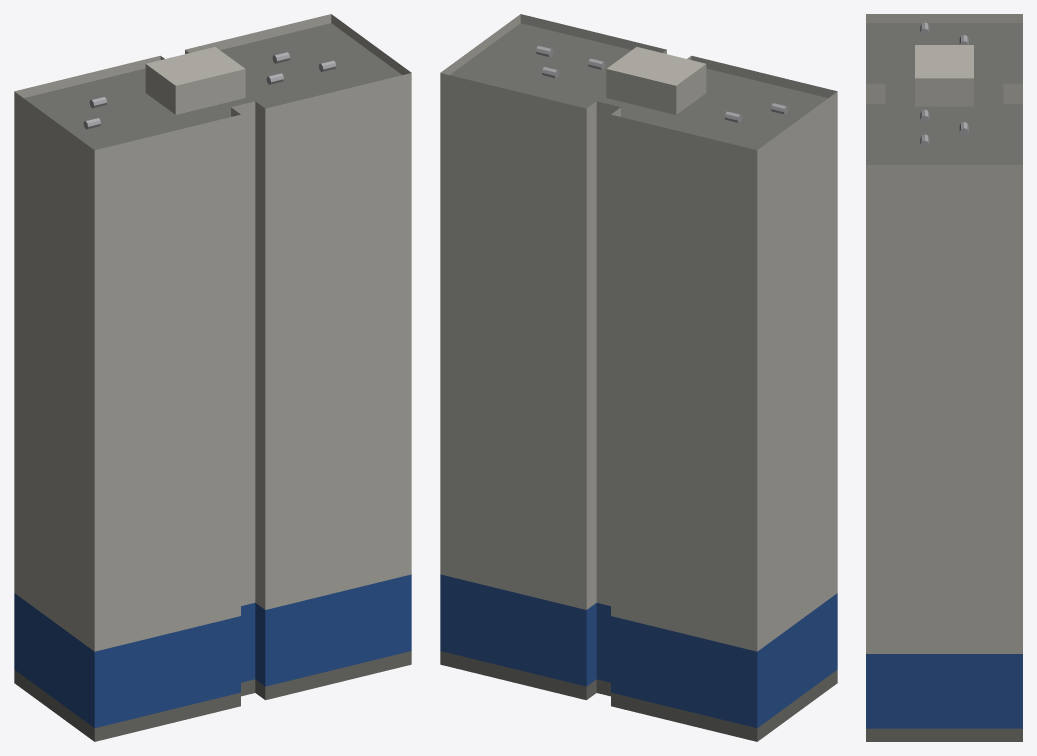
The picture shows the model from 3 angles, left to right: view 1: azimuth 30°, elevation 25°; view 2: azimuth 150°, elevation 25°; view 3: azimuth 270°, elevation 25°; orthographic projection. The views are drawn at different scales.
Parts seen in each view (by area): view 1: TW_T3_18F_S70_LOD0; view 2: TW_T3_18F_S70_LOD0; view 3: TW_T3_18F_S70_LOD0.
Boxes of the visible parts, x1,y1,x2,y2 form: TW_T3_18F_S70_LOD0: (14,14,411,741); TW_T3_18F_S70_LOD0: (440,14,837,741); TW_T3_18F_S70_LOD0: (866,14,1022,741).
Size of what is drawn, in the model's own units: 36.4 by 67.1 by 16.
